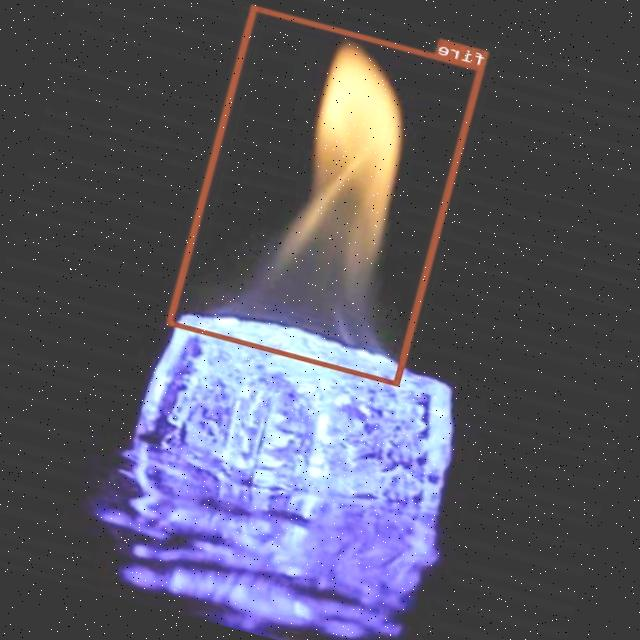fire: (167, 5, 485, 386)
